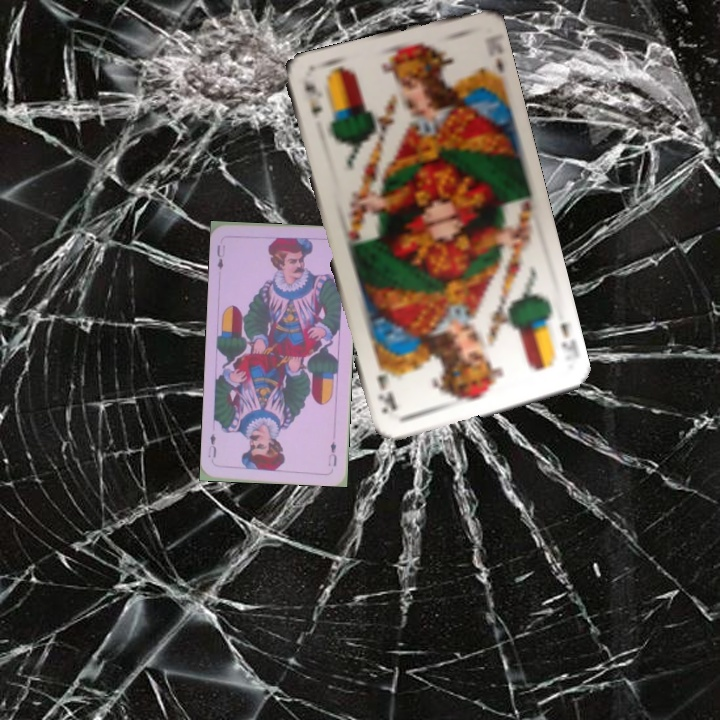EK: (301, 77, 324, 121), (556, 319, 580, 360)
EU: (324, 437, 339, 469), (213, 241, 228, 272)
